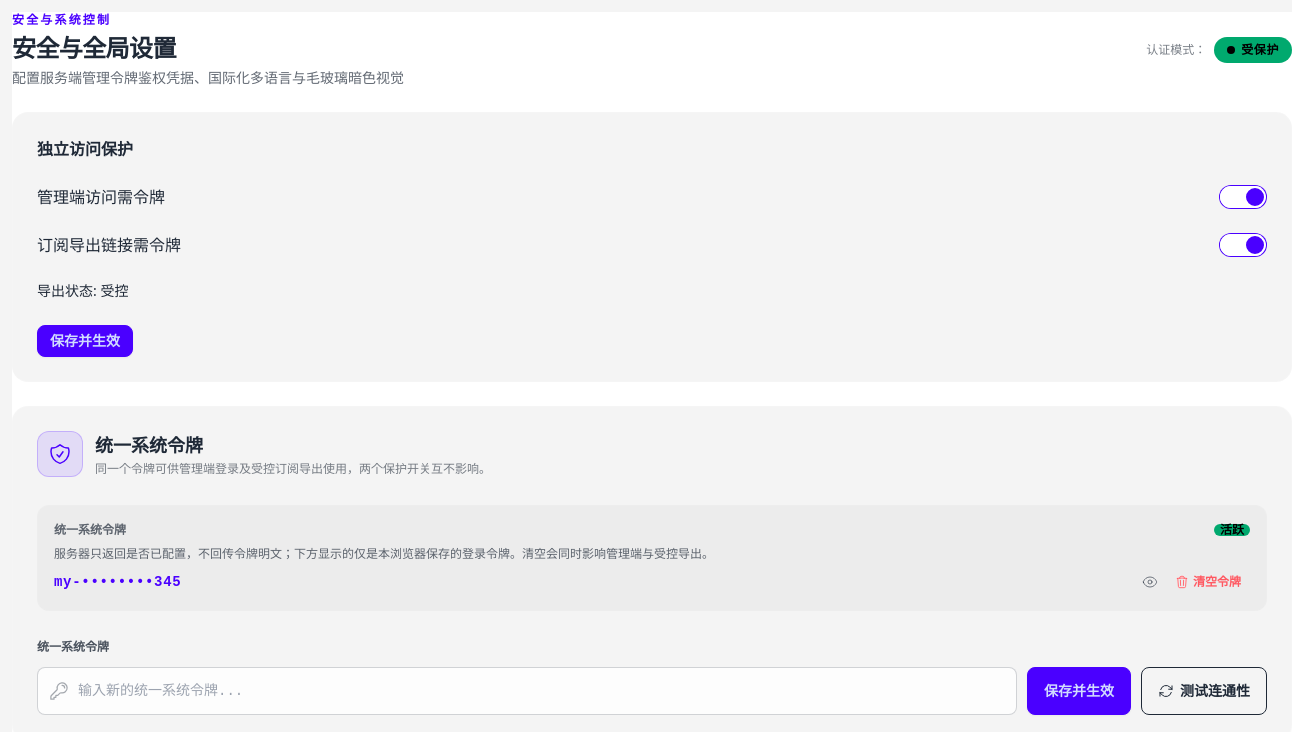
SettingsView Component › displays stored token masked by default and toggles visibility on click
Expected: the text "my-••••••••345" is shown, [54,572,181,592]
Expected: the element with test id "stored-token-display" does not show "my-super-secret-admin-token-12345"
Note: Click toggle to show
Click the button with test id "toggle-token-visibility-btn" at (1150, 582), box [1138,570,1162,594]
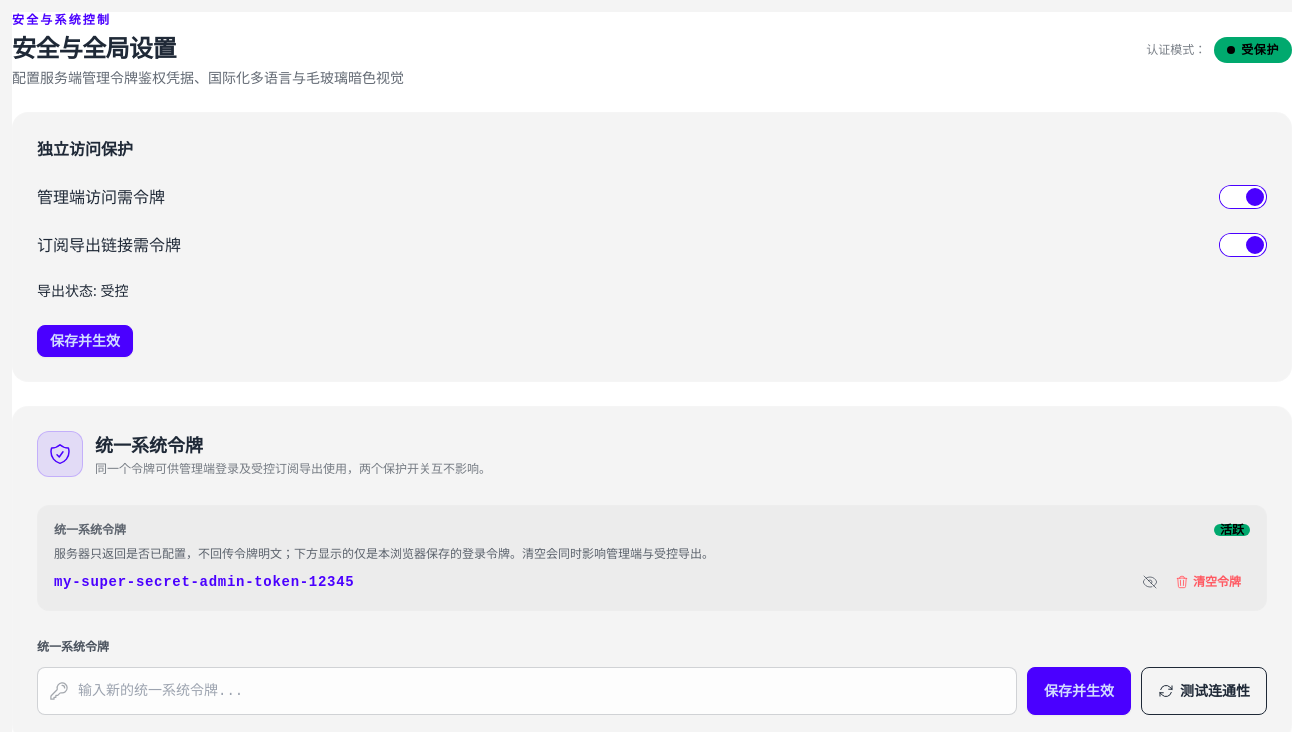
Result: the text with test id "stored-token-display" reads "my-super-secret-admin-token-12345" at [54,574,354,590]
Note: Click toggle to mask again
Click the button with test id "toggle-token-visibility-btn" at (1150, 582), box [1138,570,1162,594]
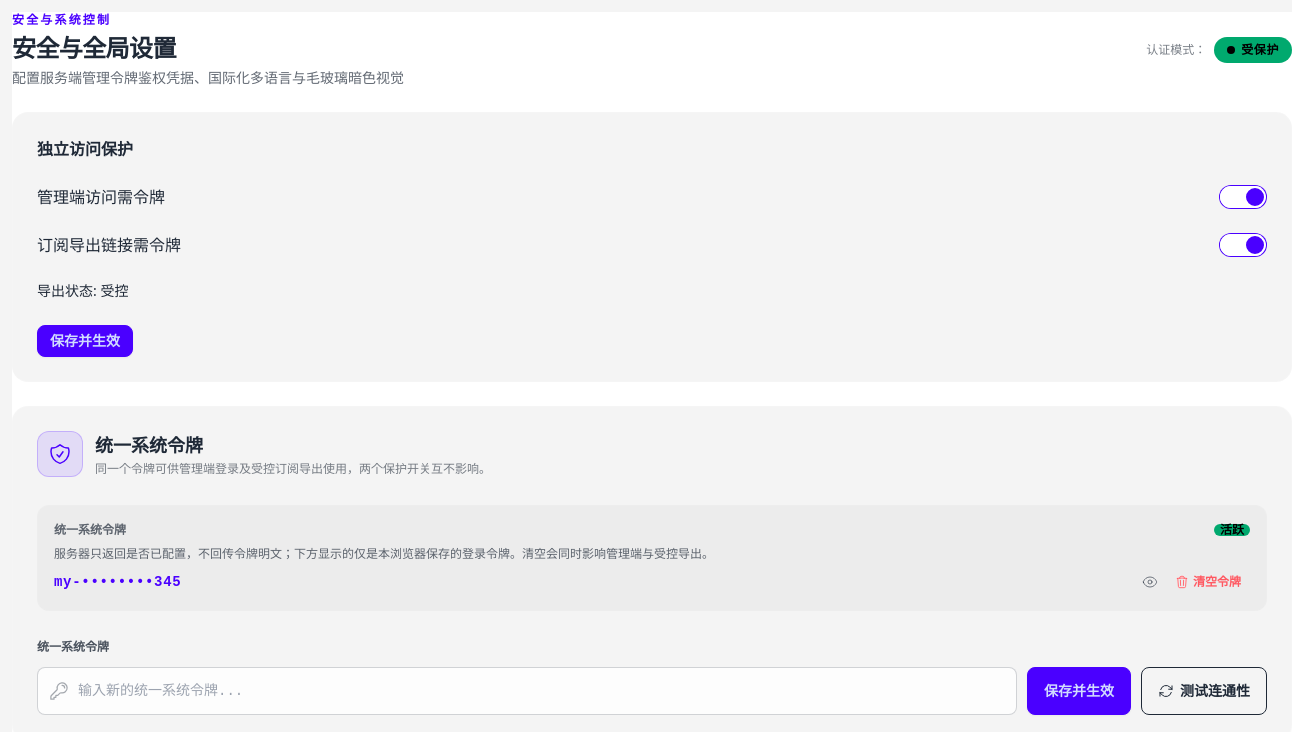
Result: the text with test id "stored-token-display" shows "••••" at [54,574,181,590]
